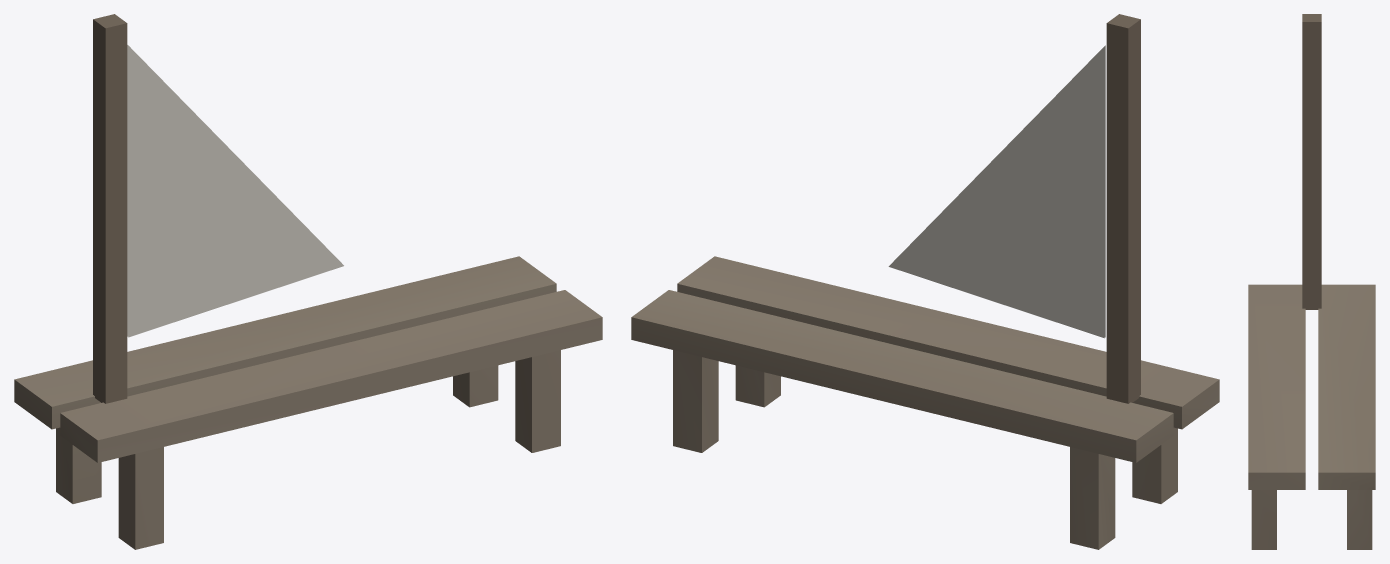
The model's file is port.glb.
3 renders of one model, left to right at view 1: azimuth 30°, elevation 25°; view 2: azimuth 150°, elevation 25°; view 3: azimuth 270°, elevation 25°, orthographic. The views are drawn at different scales.
Parts seen in each view (by area): view 1: port_pier, sail; view 2: port_pier, sail; view 3: port_pier, sail.
Part boxes in pixels (x1,y1,x2,y2): port_pier: (14,256,602,549); sail: (93,14,343,403); port_pier: (631,256,1219,549); sail: (888,14,1140,403); port_pier: (1248,284,1375,549); sail: (1302,14,1321,309).
Size of the model in its own units: 0.28 by 0.263 by 0.08.
